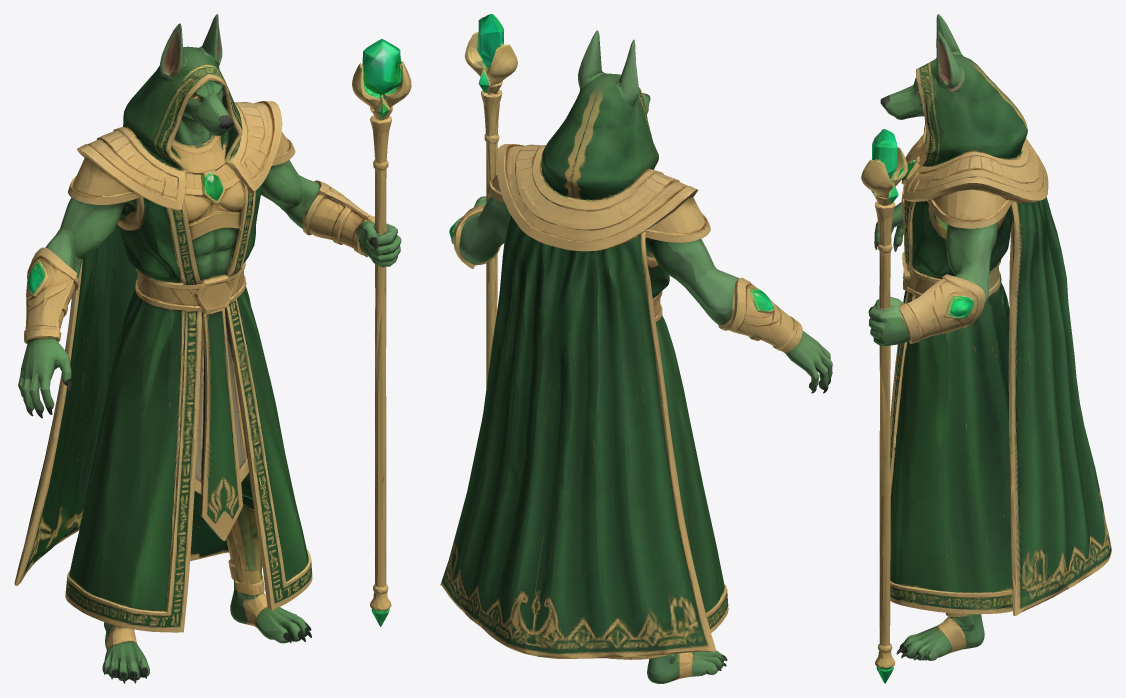
Rendered from et_magician.glb.
The picture shows the model from 3 angles, left to right: view 1: azimuth 30°, elevation 25°; view 2: azimuth 150°, elevation 25°; view 3: azimuth 270°, elevation 25°; orthographic projection. The views are drawn at different scales.
Size of the model in its own units: 1.18 by 1.9 by 0.7254.
1 material, 1 textured.
